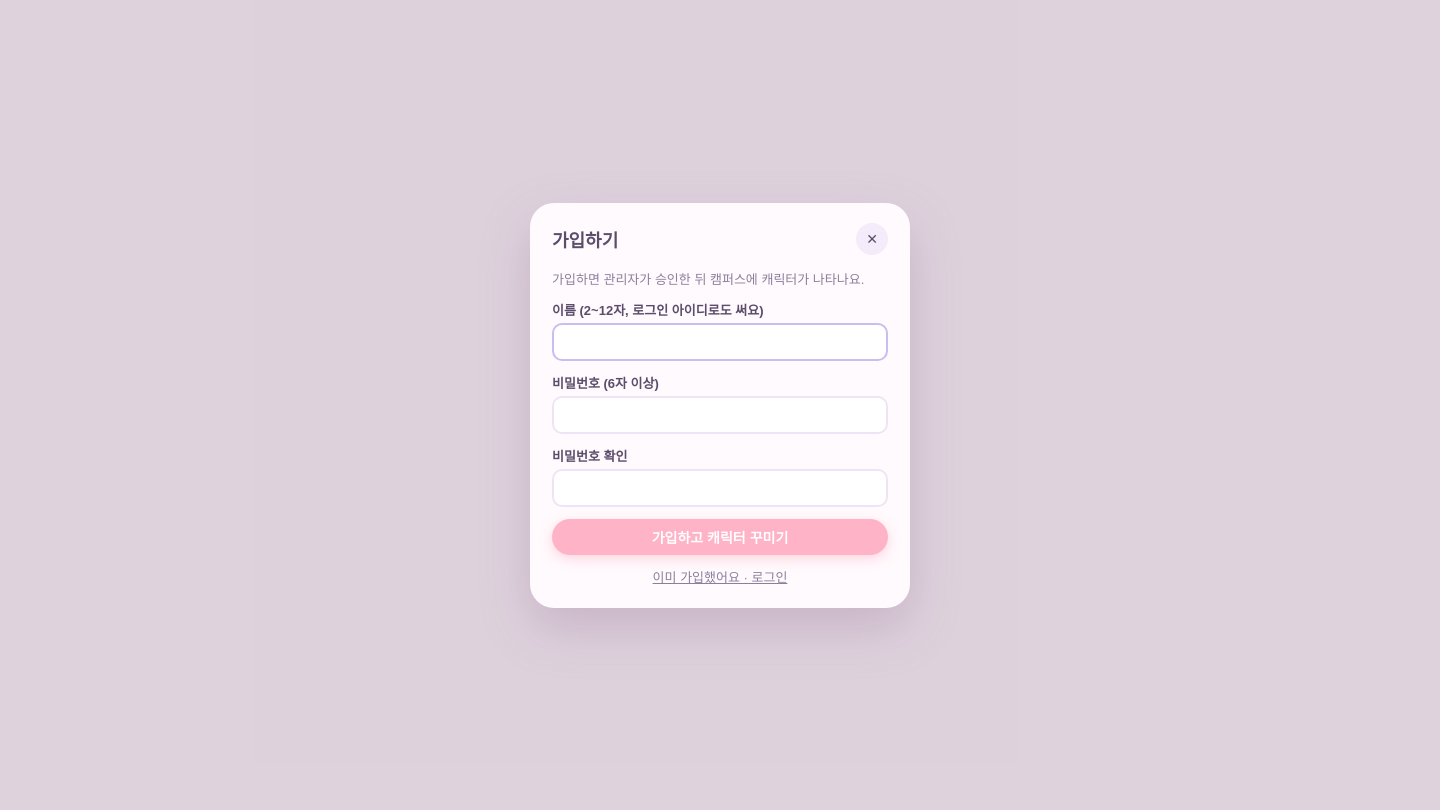
it: SignupForm › 입력이 틀리면 서버에 보내지 않고 필드 아래에 알려 준다
This screenshot has width=1440, height=810.
Step 1. Type "철" into the field labelled "이름 (2~12자, 로그인 아이디로도 써요)" → (720, 342), box [552, 322, 888, 360]
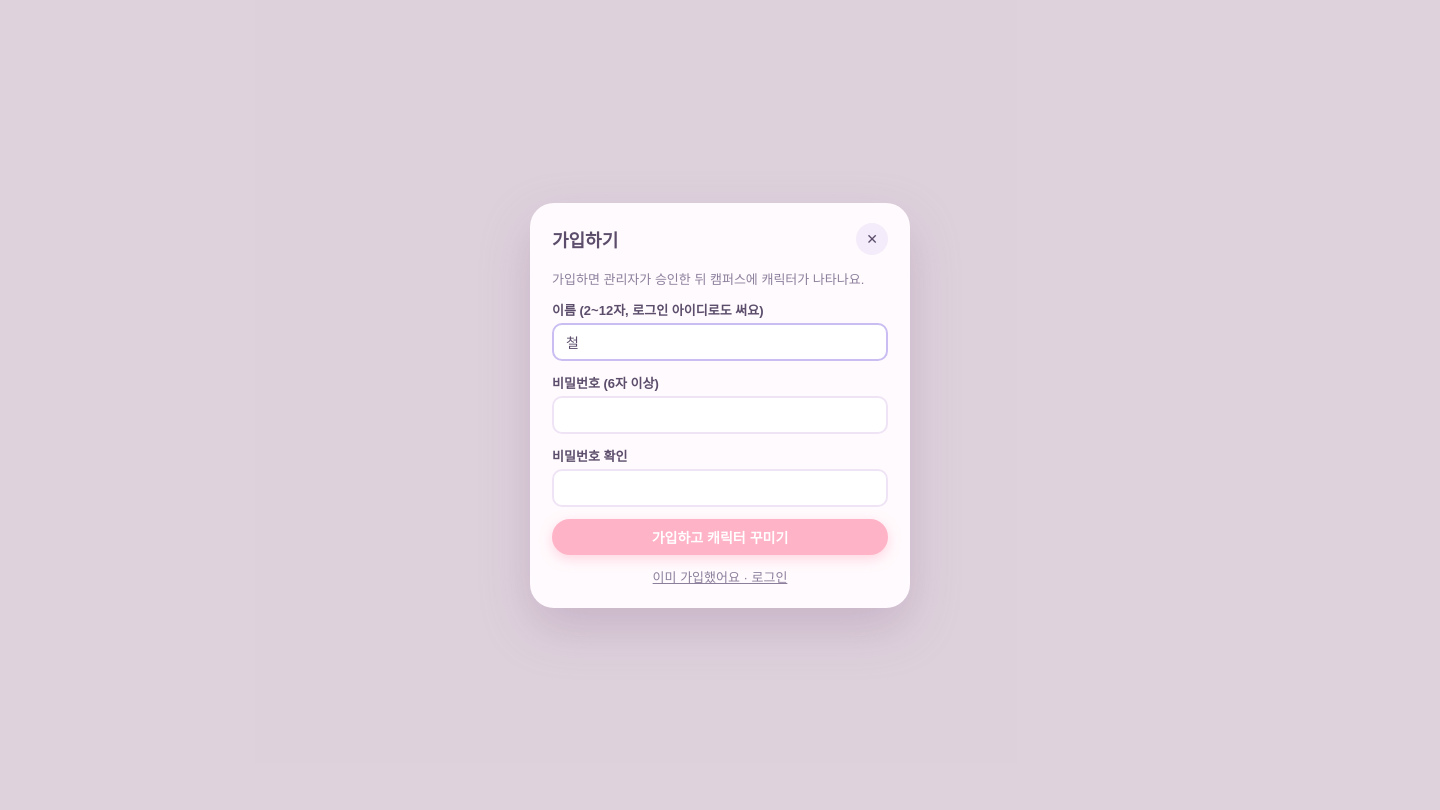
Step 2. Type "123" into the password field labelled "비밀번호 (6자 이상)" → (720, 414), box [552, 396, 888, 434]
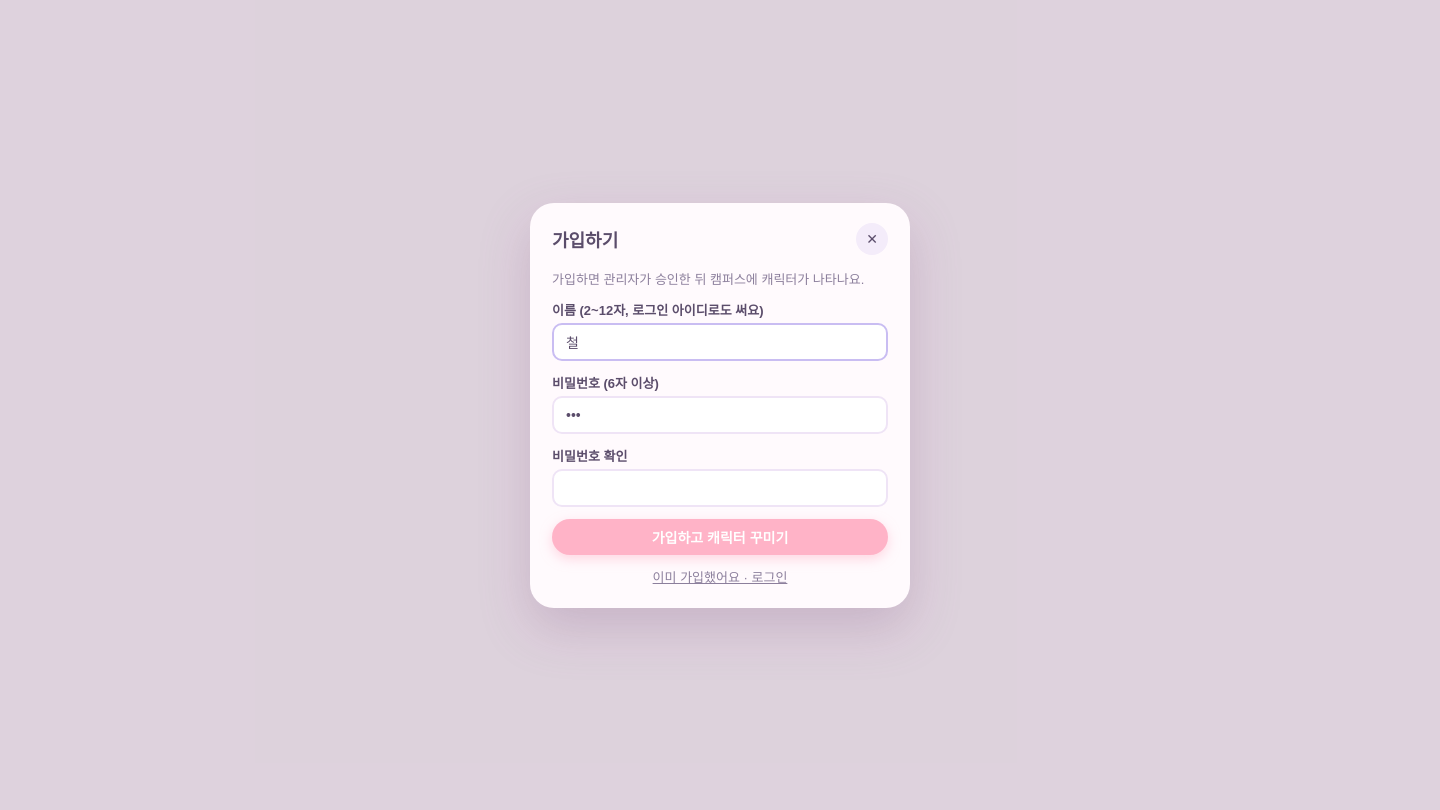
Step 3. Type "456" into the password field labelled "비밀번호 확인" → (720, 488), box [552, 468, 888, 506]
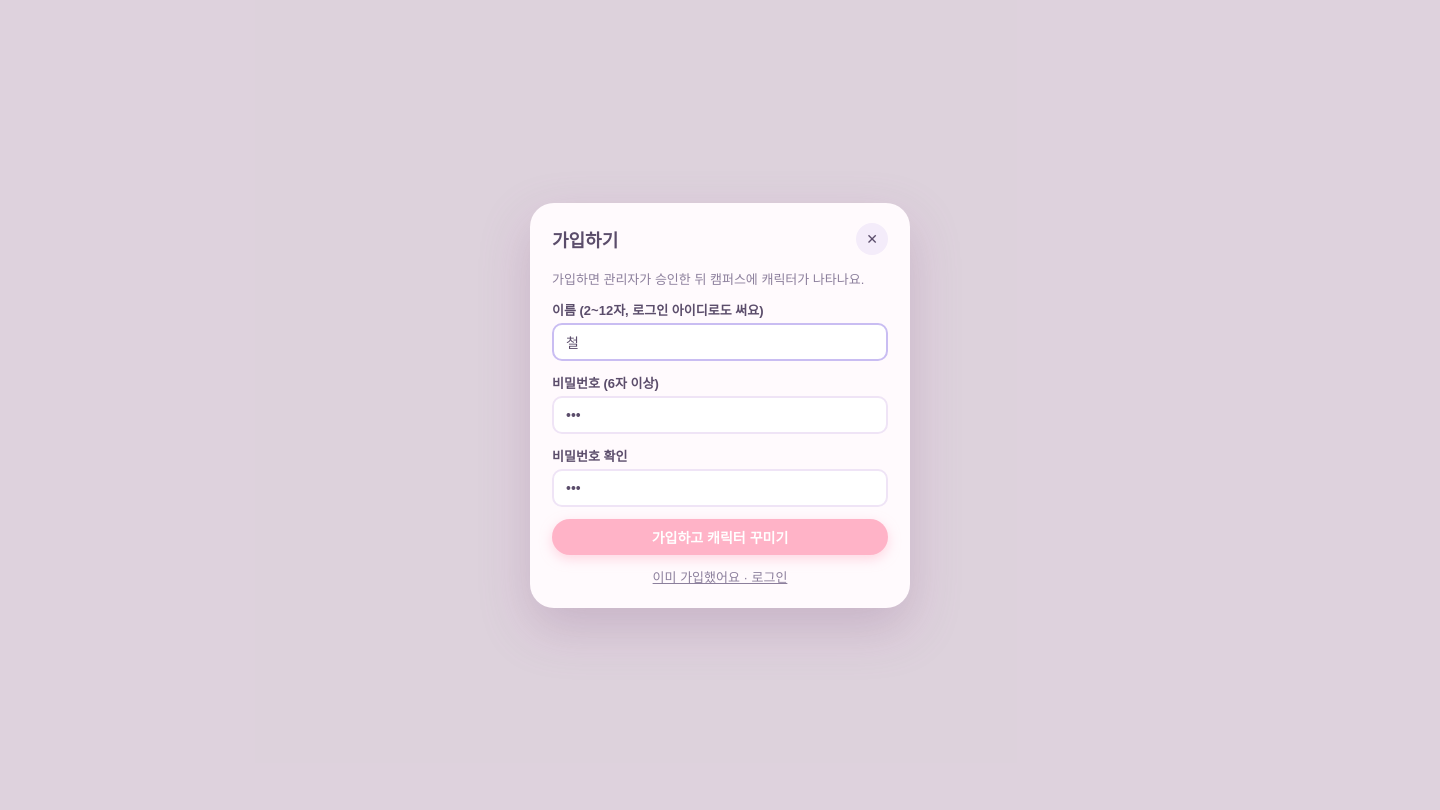
Step 4. Click the button "가입하고 캐릭터 꾸미기" → (720, 536), box [552, 518, 888, 554]
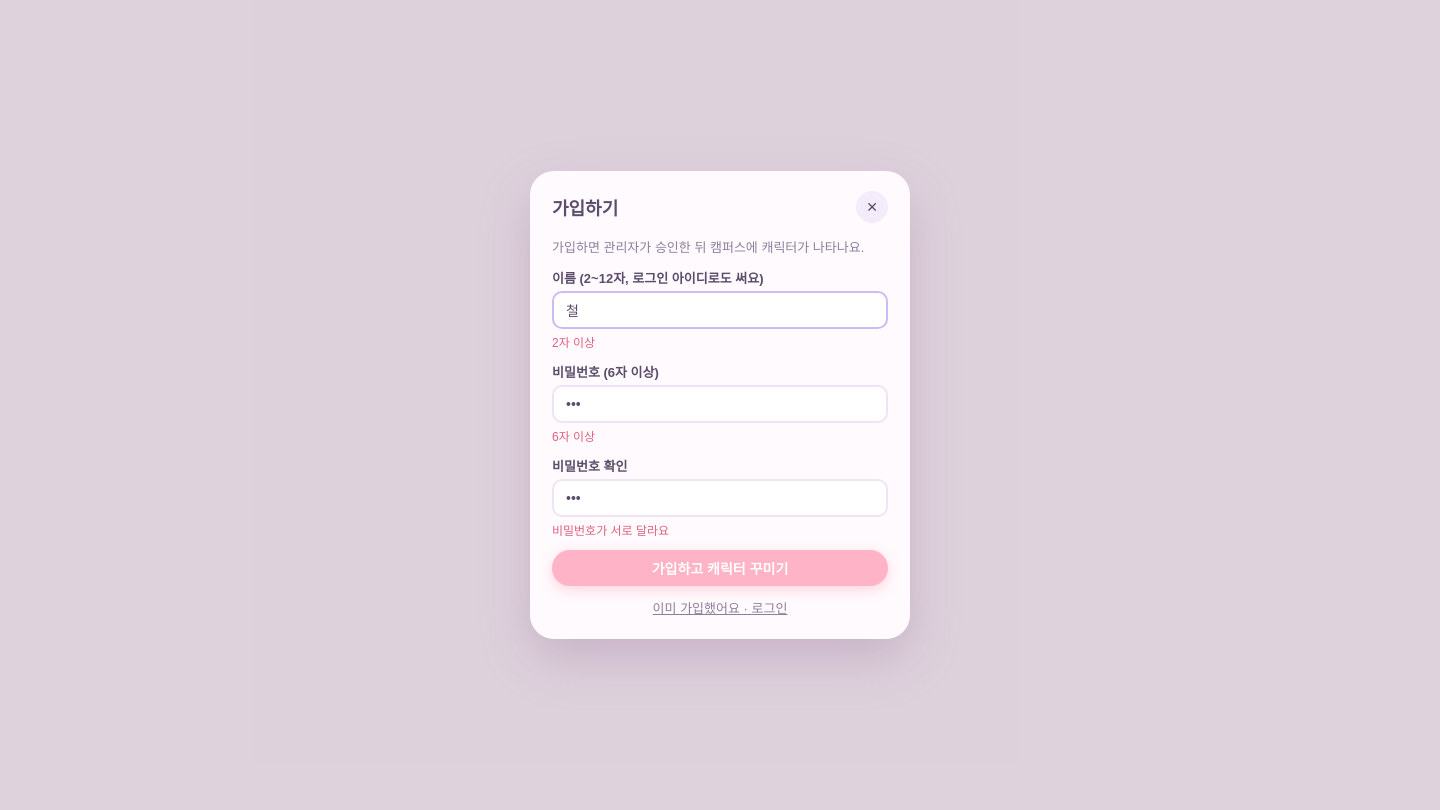
Check: the text "2자 이상" is shown, box [552, 336, 595, 350]
Check: the text "6자 이상" is shown, box [552, 430, 595, 444]
Check: the text "비밀번호가 서로 달라요" is shown, box [552, 524, 669, 538]
